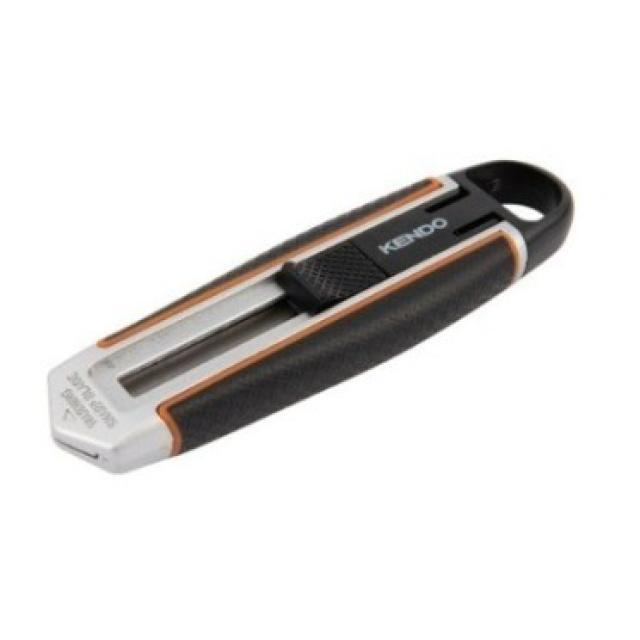cutter: (32, 159, 580, 483)
